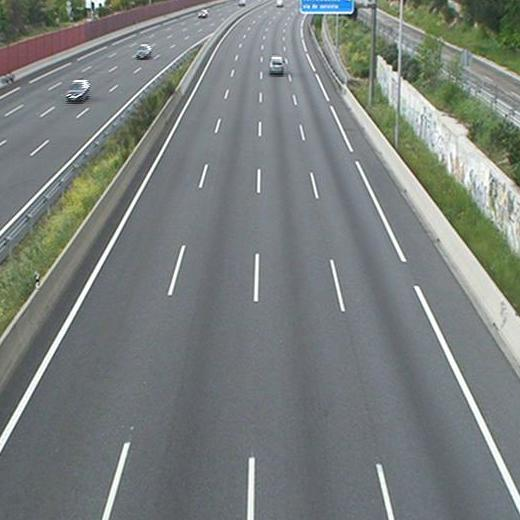car: (269, 56, 285, 74)
